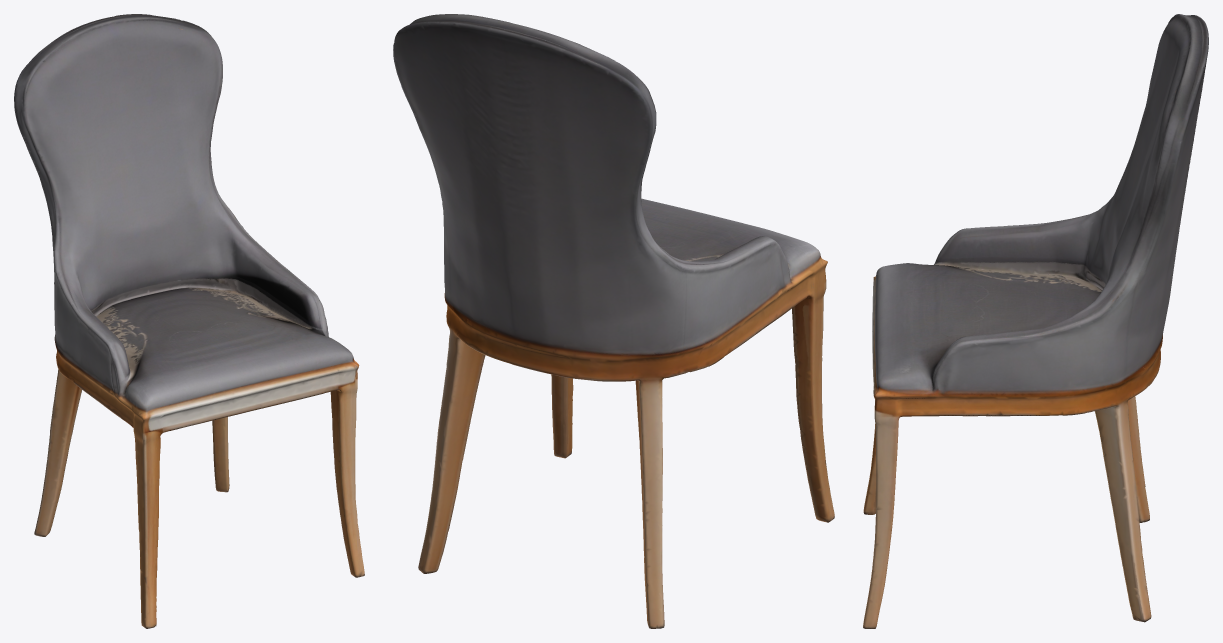
3 views of the same model, side by side, from view 1: azimuth 30°, elevation 25°; view 2: azimuth 150°, elevation 25°; view 3: azimuth 270°, elevation 25° (orthographic). The views are drawn at different scales.
Bounding box in the file's own units: 0.9678 × 2 × 1.18.
Materials: 1 (1 with a texture image).
